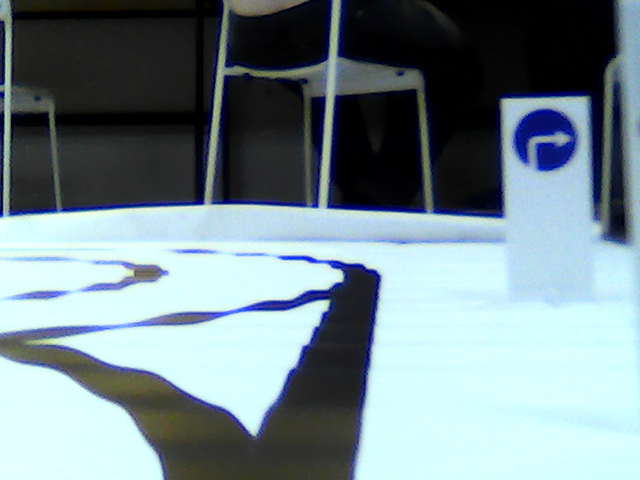Right: (511, 109, 578, 170)
